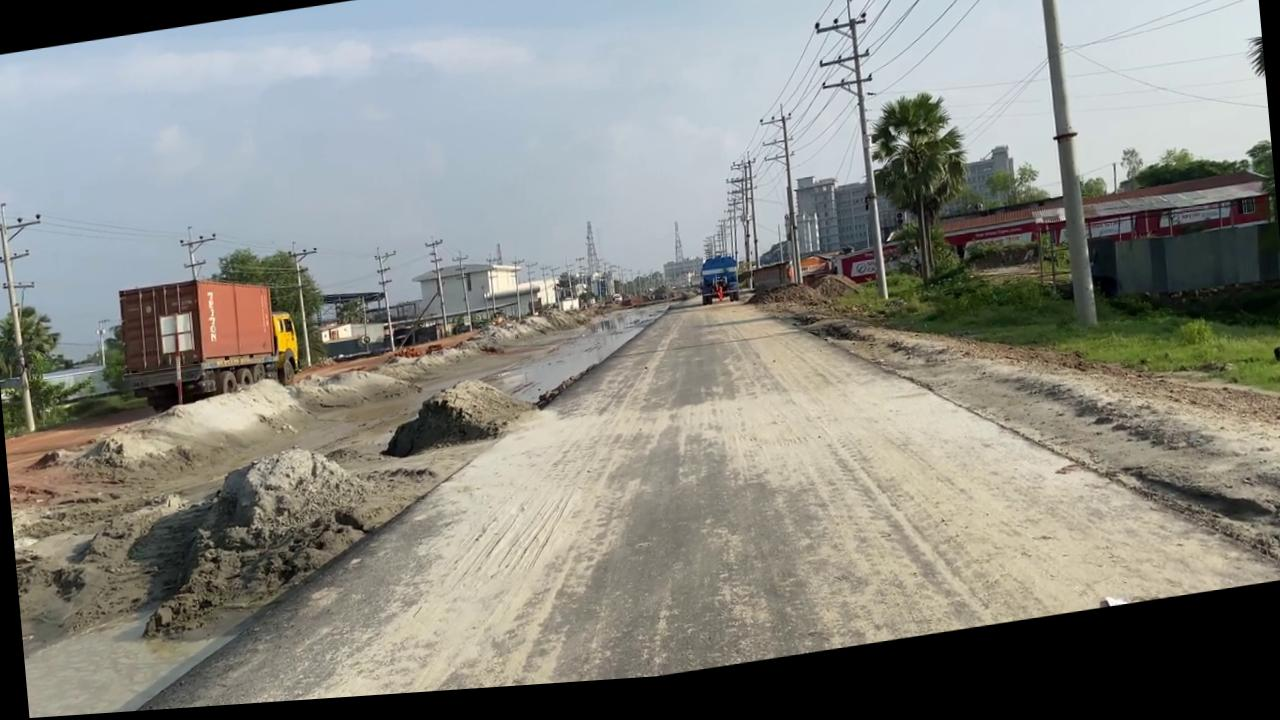Muddy road: (17, 323, 568, 719)
Pole: (812, 6, 892, 320), (1028, 0, 1098, 348)
Rickshaw: (560, 267, 1138, 691)
Traffic-sign: (863, 97, 978, 306)
Tree: (114, 265, 302, 419), (696, 261, 740, 316), (270, 312, 300, 391), (552, 277, 588, 322)
